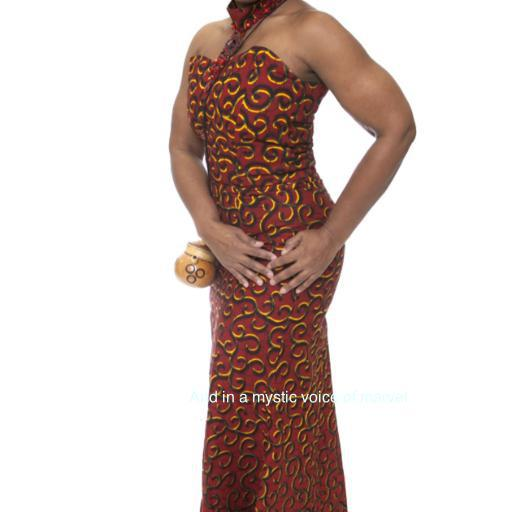SF Pro: (188, 390, 408, 406)
